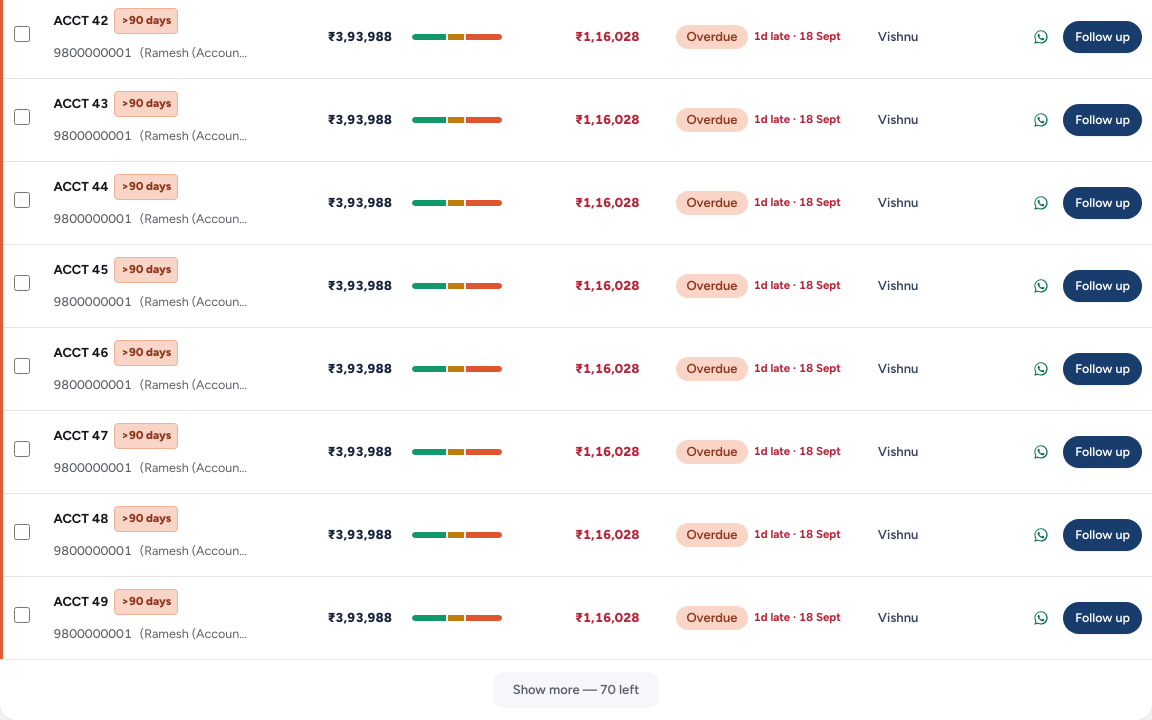
Test case: one search, and pages of fifty › renders fifty rows, then more on request
The width and height of the screenshot is (1152, 720).
(page scrolled)
Click the button "Show more — 70 left": [576, 690] box [493,672,659,708]
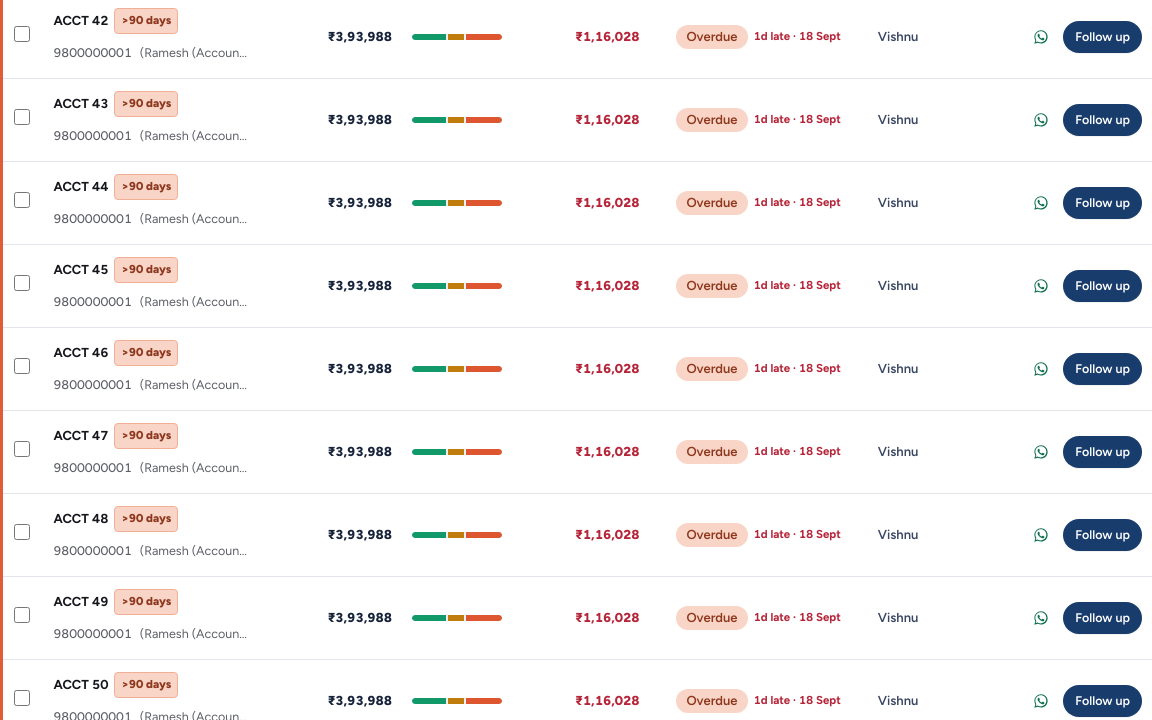
Expected: the button "Show more" is gone
